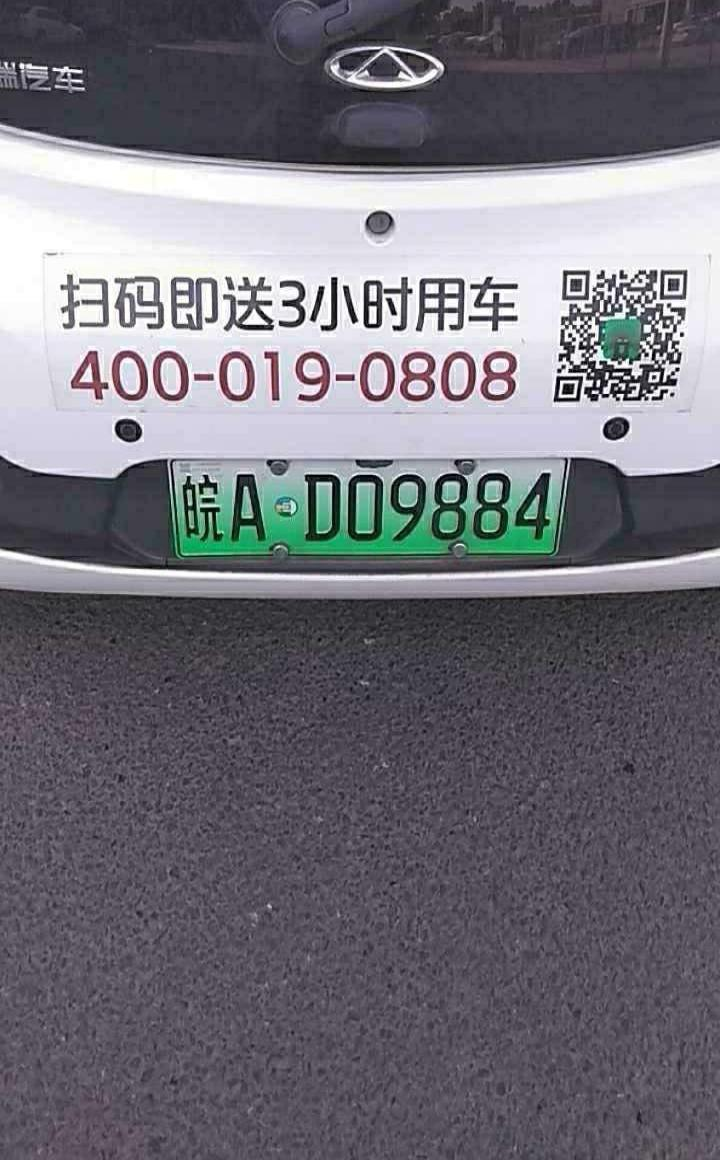car_id: (170, 462, 565, 566)
